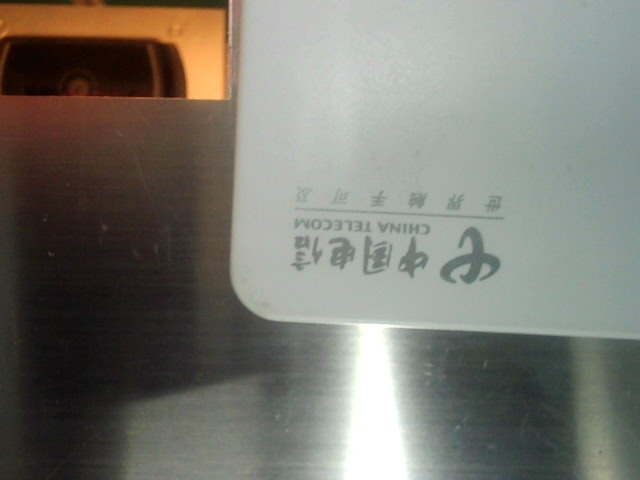AB_ChinaTelecom: (290, 181, 521, 285)
